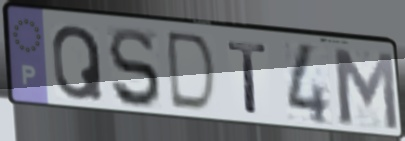4: (284, 41, 335, 128)
D: (166, 29, 220, 117)
M: (329, 45, 402, 134)
Q: (50, 23, 107, 103)
S: (106, 26, 164, 112)
T: (225, 40, 271, 118)
